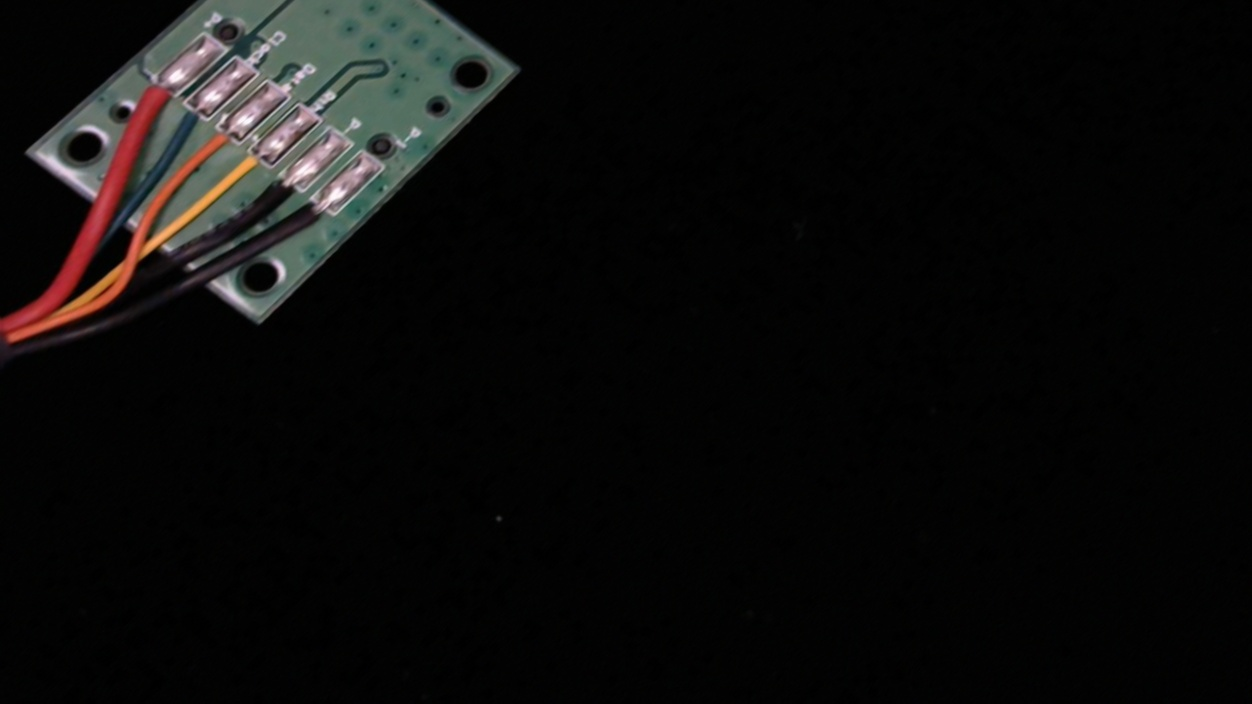Black: (233, 162, 317, 231)
Black1: (261, 186, 350, 259)
Green: (142, 89, 224, 153)
Orange: (171, 113, 253, 178)
Red: (98, 66, 192, 139)
Yellow: (202, 139, 287, 207)
